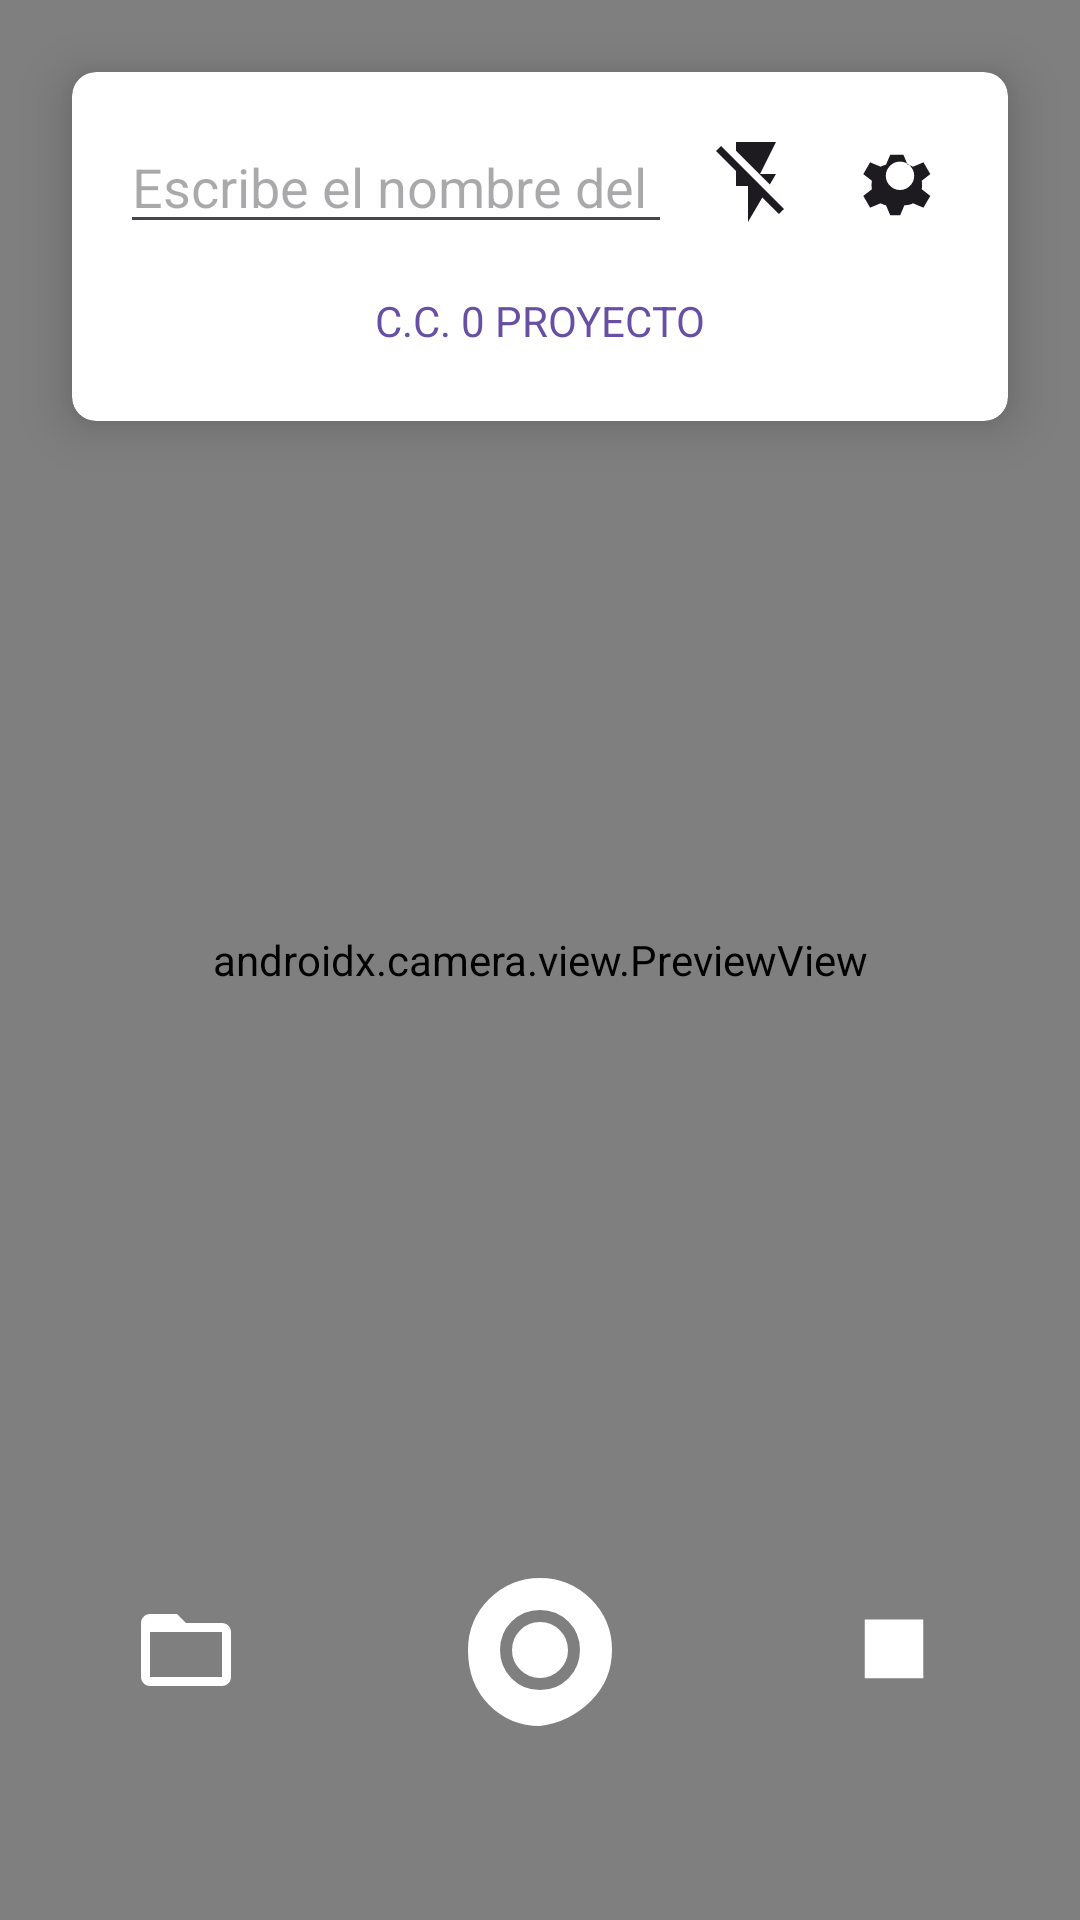

Icons on this 1080x1920 Android screen, each with its box as (x1, y1, x2, y2):
Ajustes: (863, 154, 930, 216)
Flash: (716, 142, 784, 222)
Tomar Foto: (468, 1578, 612, 1726)
